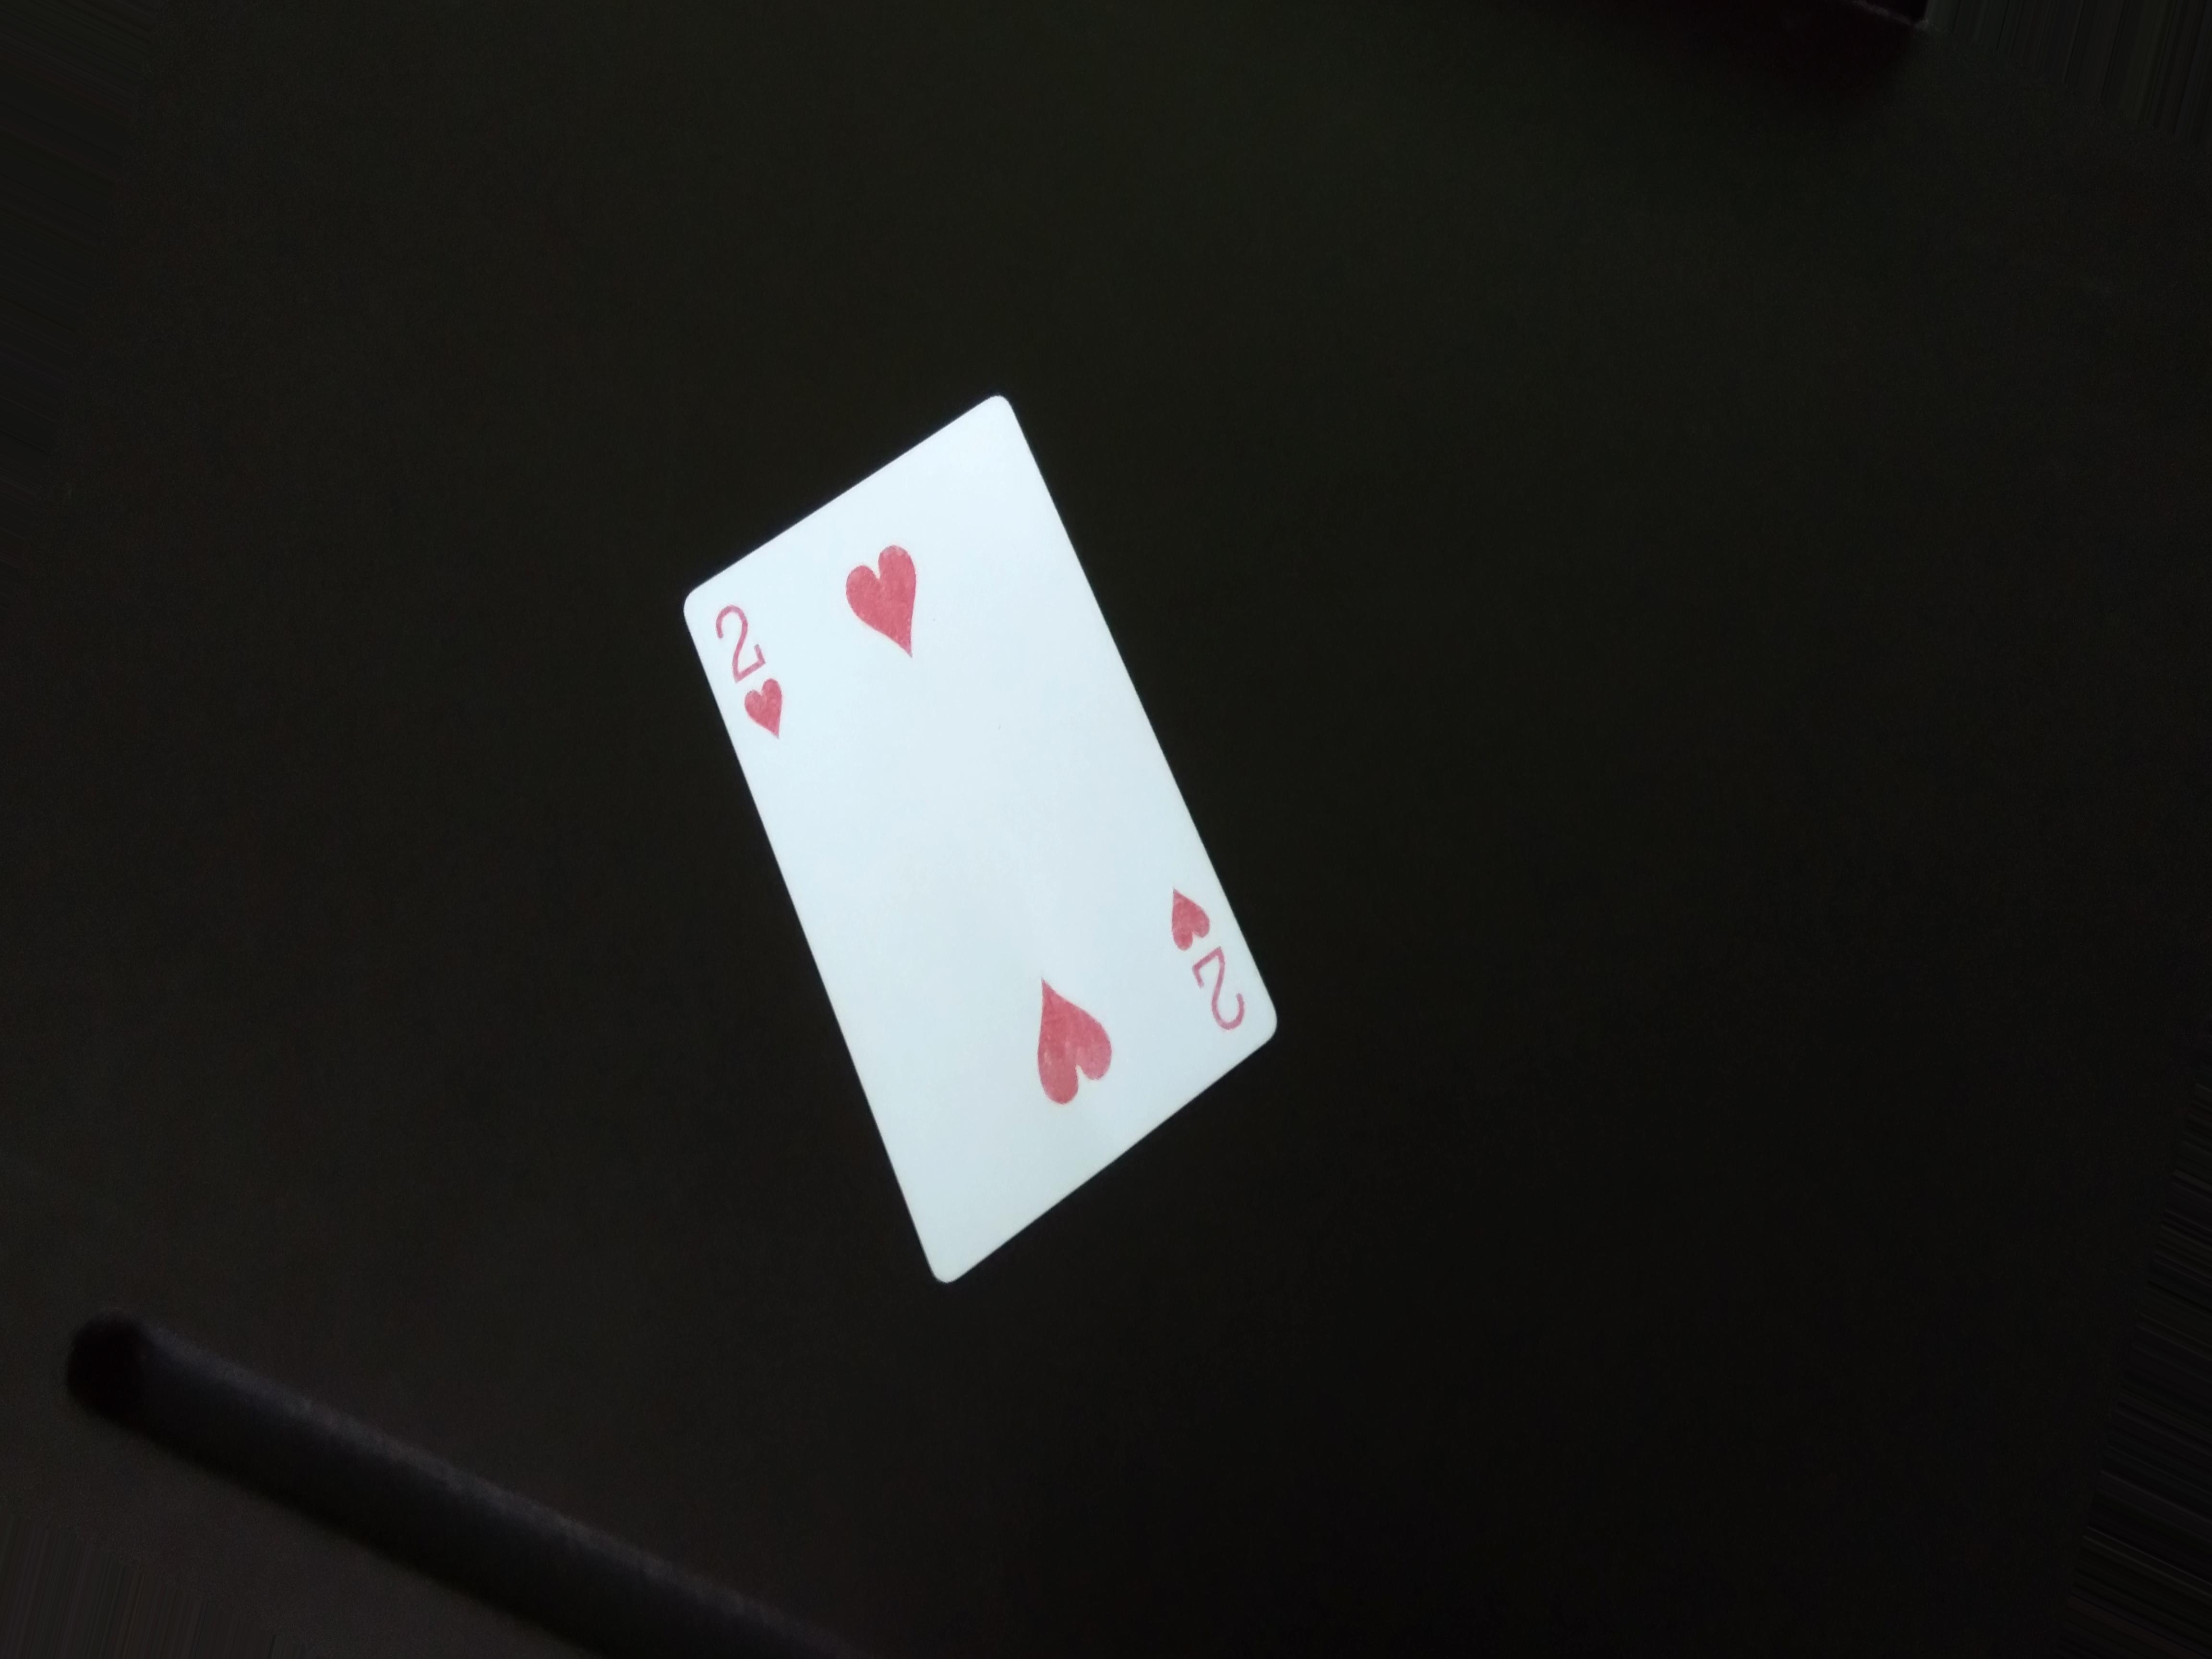2H: (698, 592, 817, 742)
